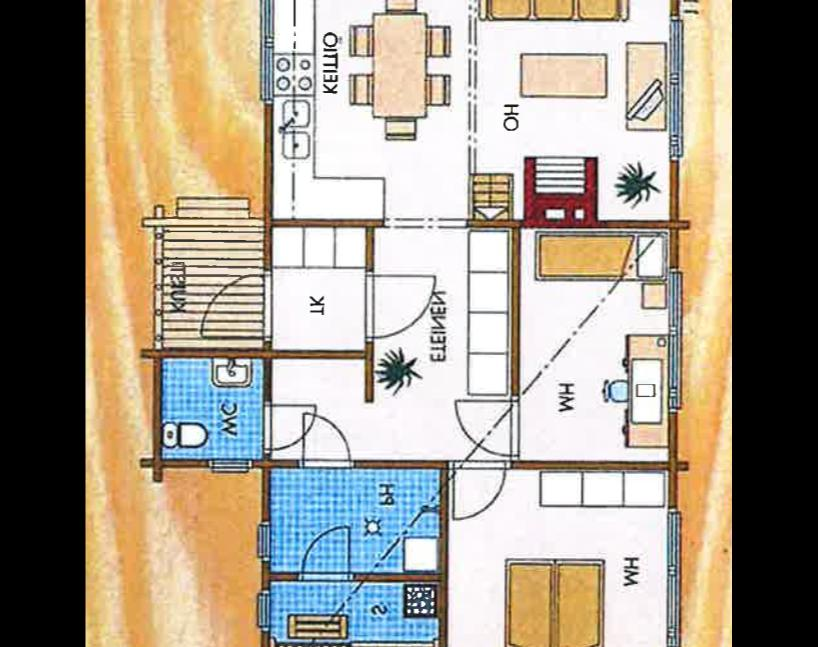door: (198, 268, 276, 342), (362, 270, 439, 344), (450, 394, 526, 458), (447, 456, 512, 520), (298, 410, 356, 476), (296, 524, 354, 588), (262, 401, 320, 453)
window: (664, 12, 687, 165), (663, 264, 685, 413), (665, 505, 686, 647), (256, 0, 279, 106), (204, 452, 256, 477), (254, 516, 274, 566), (254, 585, 274, 634)
